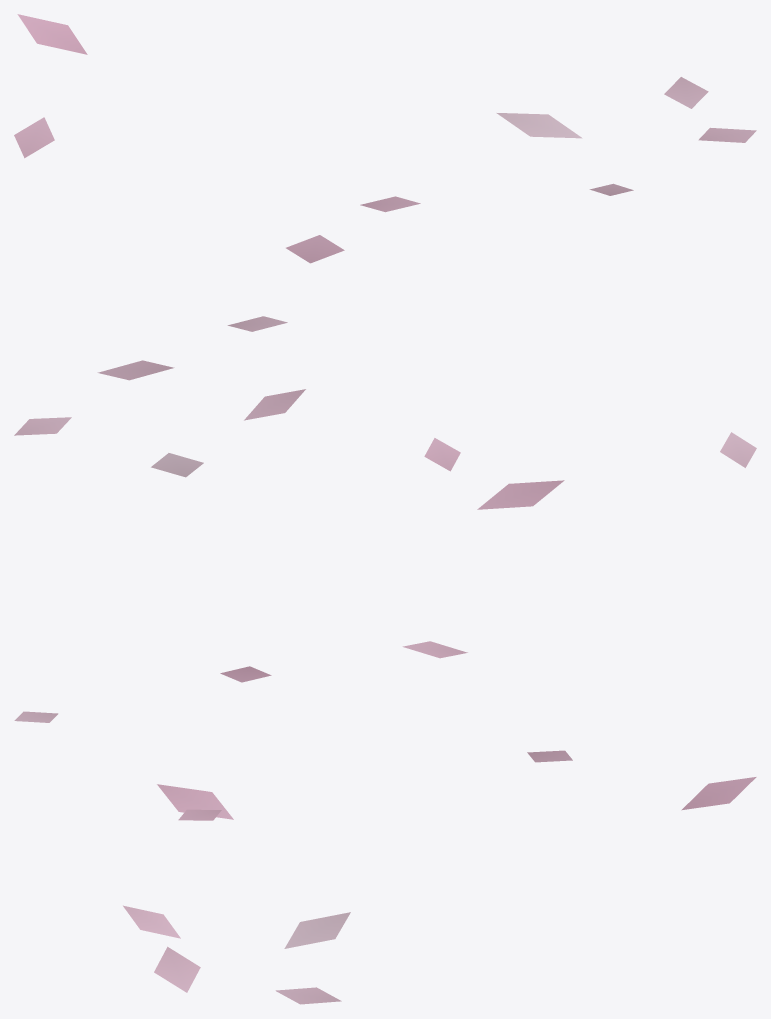
The model's file is petalfall.glb.
3 views of the same model, one above another, from view 1: azimuth 30°, elevation 25°; view 2: azimuth 150°, elevation 25°; view 3: azimuth 270°, elevation 25° (orthographic). The views are drawn at different scales.
Parts seen in each view (by area): view 1: petalfall; view 2: petalfall; view 3: petalfall.
Part boxes in pixels (x1,y1,x2,y2): petalfall: (14,14,756,331); petalfall: (14,360,756,682); petalfall: (14,711,756,1004).
Bounding box in the file's own units: 0.767 × 0.0435 × 0.8445.
